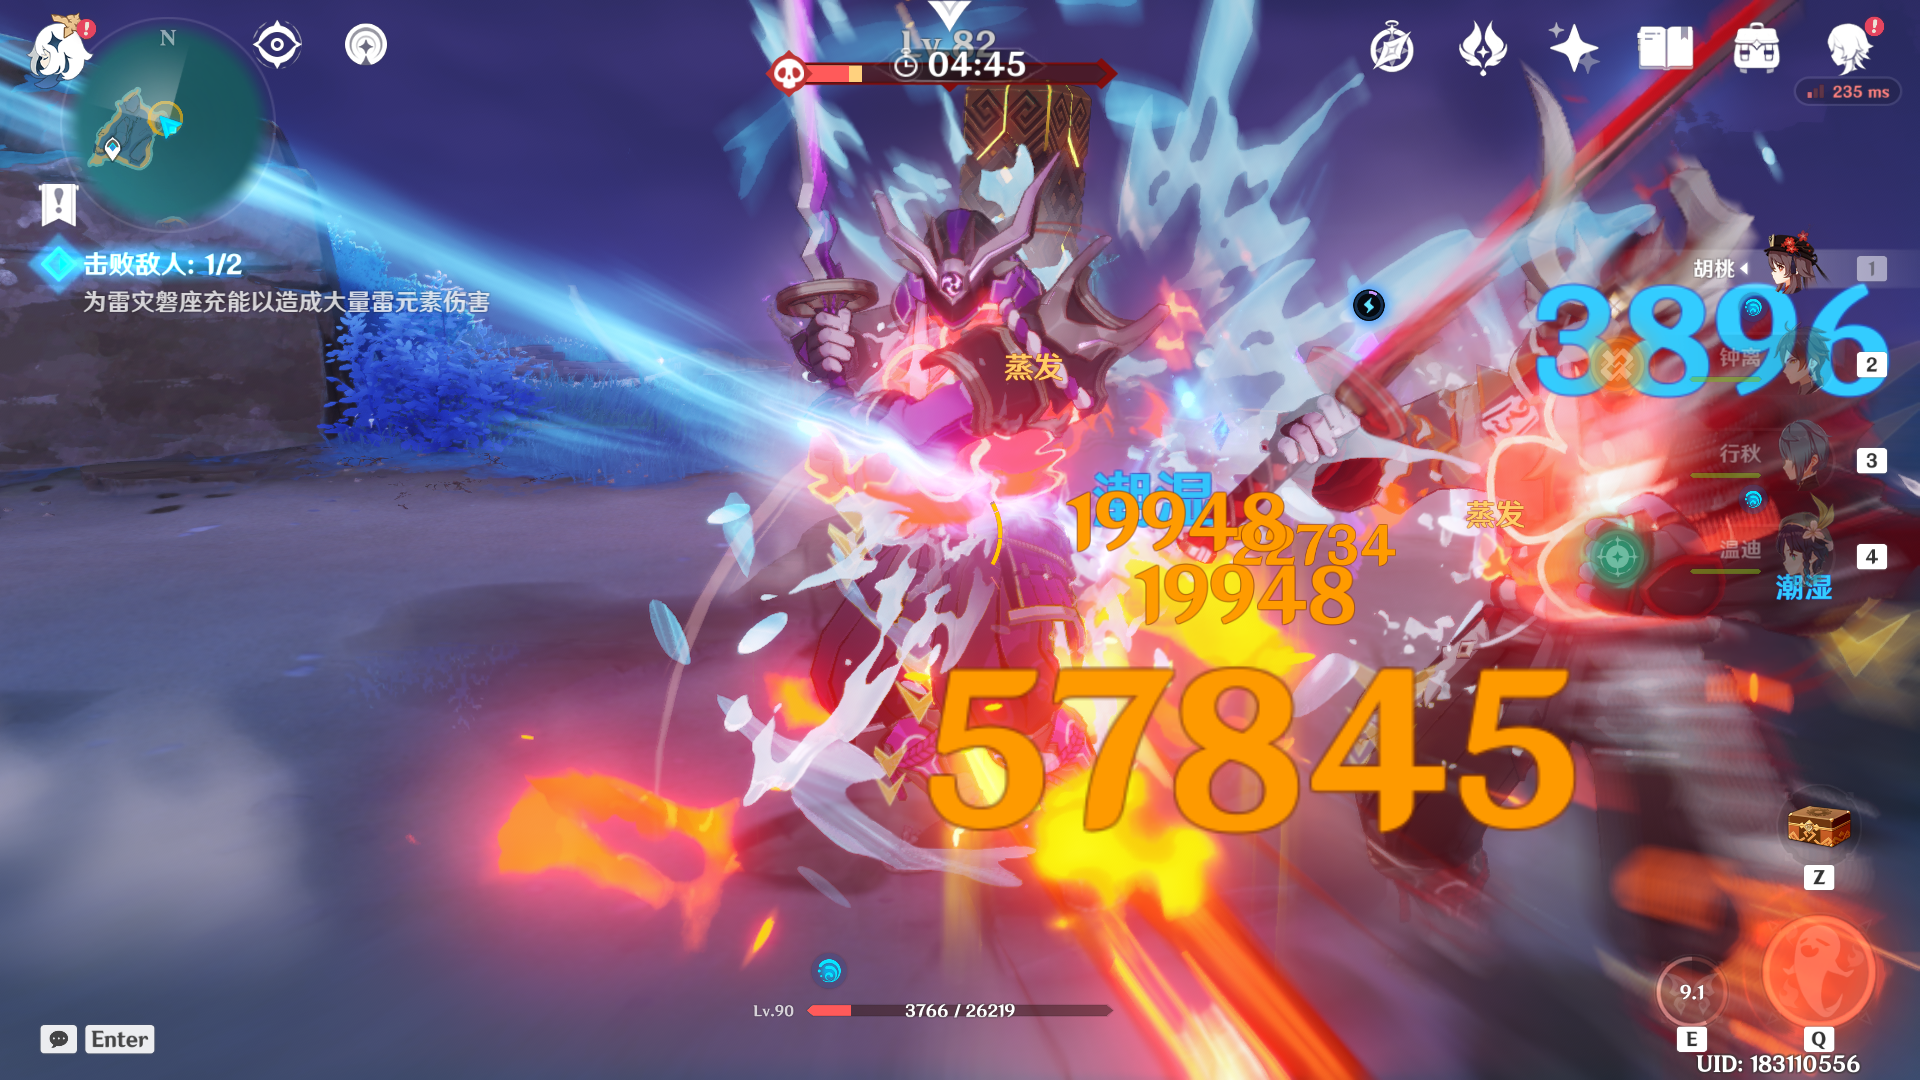samurai: (1218, 145, 1920, 1010), (675, 100, 1193, 913)
